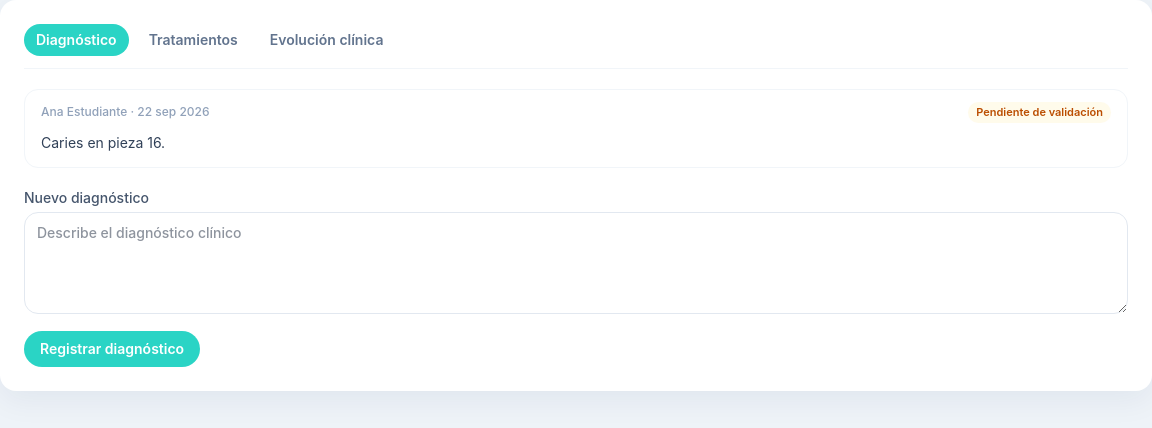
it: PatientClinicalTabs › carga el diagnóstico y cambia a tratamientos contra su endpoint
Expected: the text "Caries en pieza 16." is shown, [41,134,165,150]
Click the button "Tratamientos".
click(193, 40)  # box [137,24,250,56]
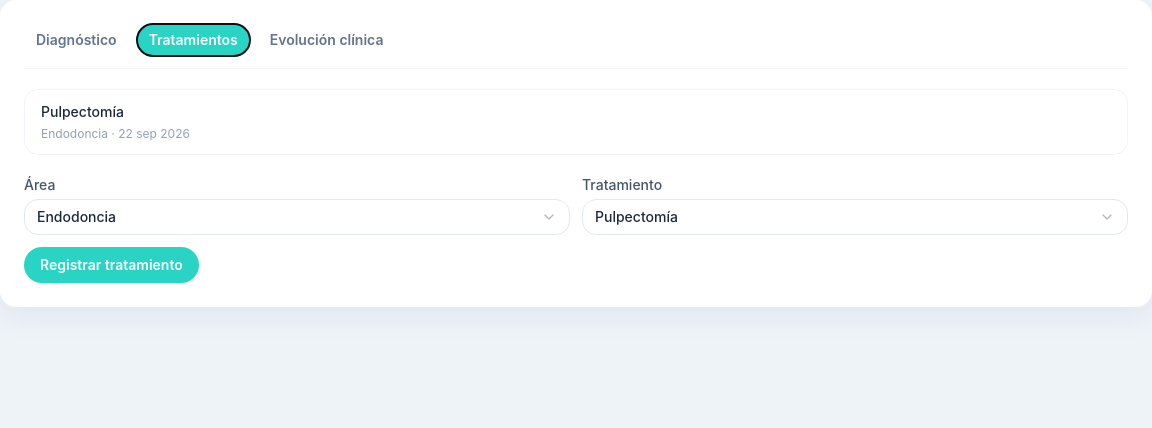
Expected: the text "Endodoncia · 22 sep 2026" is shown, [41,126,190,141]
Click the button "Evolución clínica".
click(327, 40)  # box [258,24,396,56]
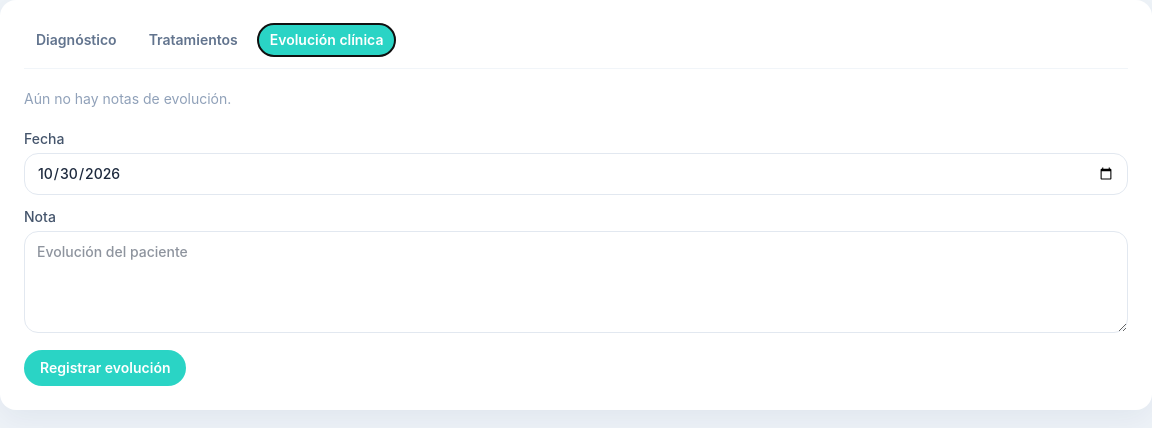
Expected: the text "Aún no hay notas de evolución." is shown, [24,90,231,107]
